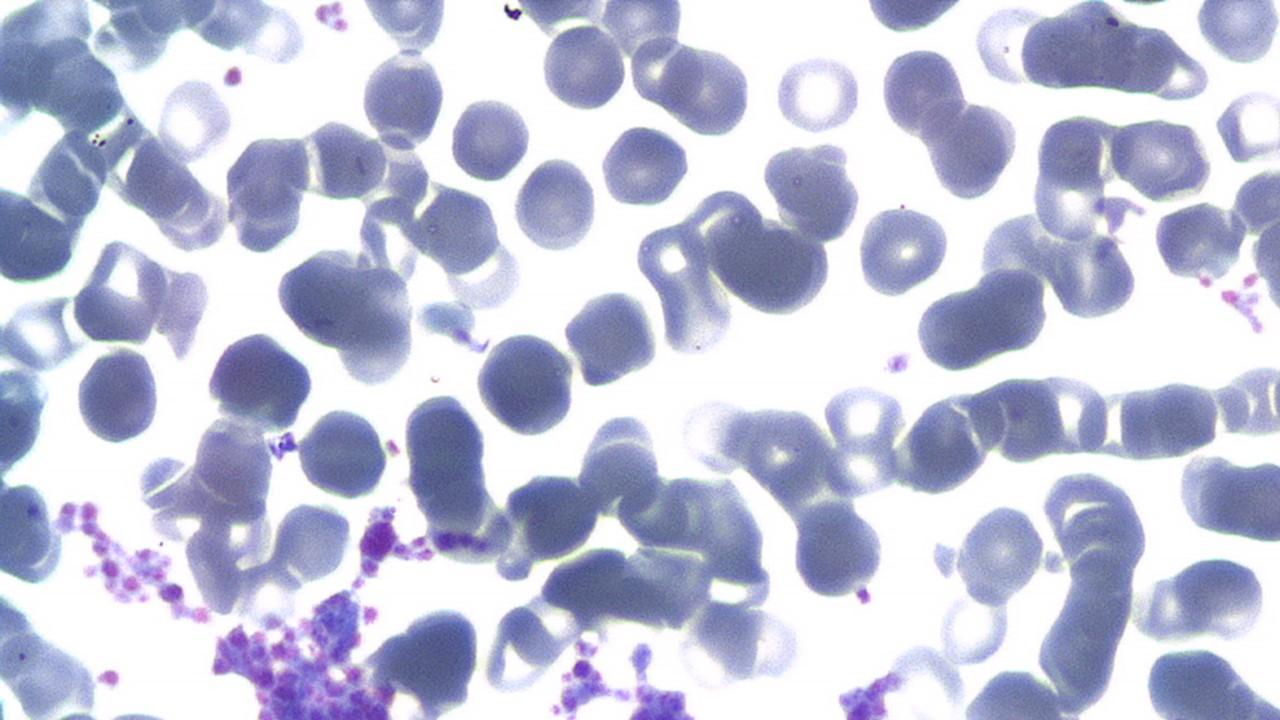Platelets: (1215, 84, 1279, 168), (1194, 4, 1278, 65), (414, 297, 476, 340), (312, 2, 353, 37), (929, 539, 959, 583), (626, 638, 656, 675), (884, 346, 916, 379), (94, 663, 127, 693), (157, 580, 188, 606), (222, 61, 247, 92), (369, 502, 400, 523), (852, 582, 876, 608)
RBC: (896, 382, 1008, 496), (920, 96, 1020, 203), (74, 234, 166, 346), (953, 500, 1046, 606), (854, 200, 952, 298), (296, 402, 391, 500), (1109, 112, 1213, 200), (878, 42, 970, 141), (511, 154, 600, 255), (1050, 230, 1140, 323), (667, 40, 754, 135), (539, 21, 628, 113), (980, 369, 1064, 465), (771, 49, 862, 136), (446, 95, 533, 184), (303, 112, 388, 203), (155, 73, 232, 165), (1034, 367, 1110, 459), (820, 378, 906, 457), (1146, 375, 1220, 462), (1, 291, 79, 373), (936, 584, 1010, 667), (819, 431, 901, 501), (628, 32, 701, 110), (1194, 1, 1278, 68), (1216, 84, 1280, 167)
WBC: (270, 230, 420, 388), (912, 264, 1055, 376), (470, 320, 581, 437), (202, 323, 318, 430), (220, 130, 320, 254), (894, 383, 1006, 492), (762, 133, 867, 242), (562, 283, 665, 394), (1017, 2, 1143, 90), (790, 496, 890, 603), (1136, 644, 1278, 718), (852, 199, 956, 298), (952, 496, 1050, 600), (924, 101, 1024, 201), (1147, 197, 1251, 288), (358, 46, 447, 152), (1170, 550, 1270, 642), (878, 41, 968, 143), (513, 151, 601, 255), (74, 345, 162, 448), (296, 404, 387, 500), (598, 121, 694, 210), (539, 19, 628, 114), (448, 93, 532, 185), (0, 475, 68, 588), (305, 114, 386, 204), (1, 362, 53, 485), (1194, 1, 1278, 66), (859, 1, 970, 33)
